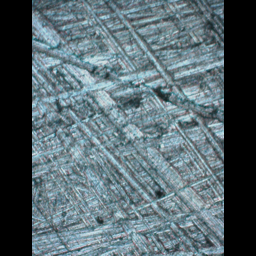d: (35, 0, 224, 214)
